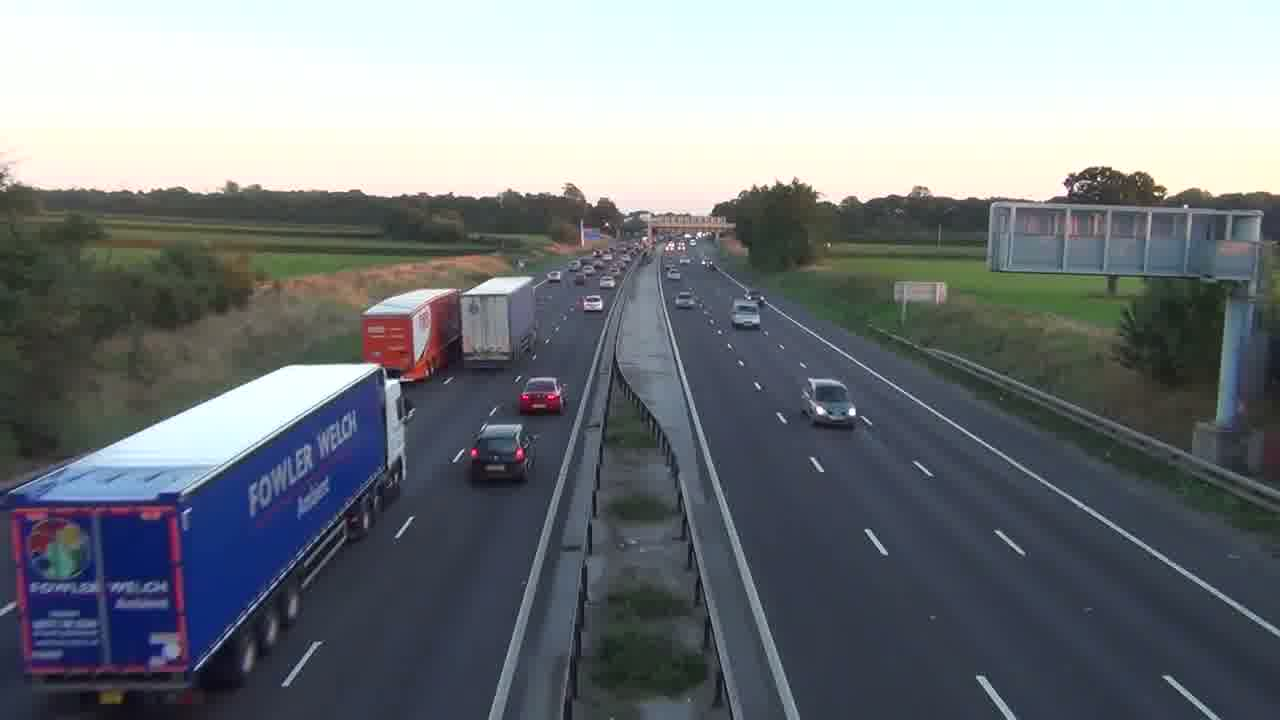car: (471, 422, 534, 483), (517, 376, 566, 416), (731, 300, 760, 329)
truck: (2, 360, 409, 696), (361, 287, 461, 384), (461, 275, 536, 369), (799, 376, 858, 429)
